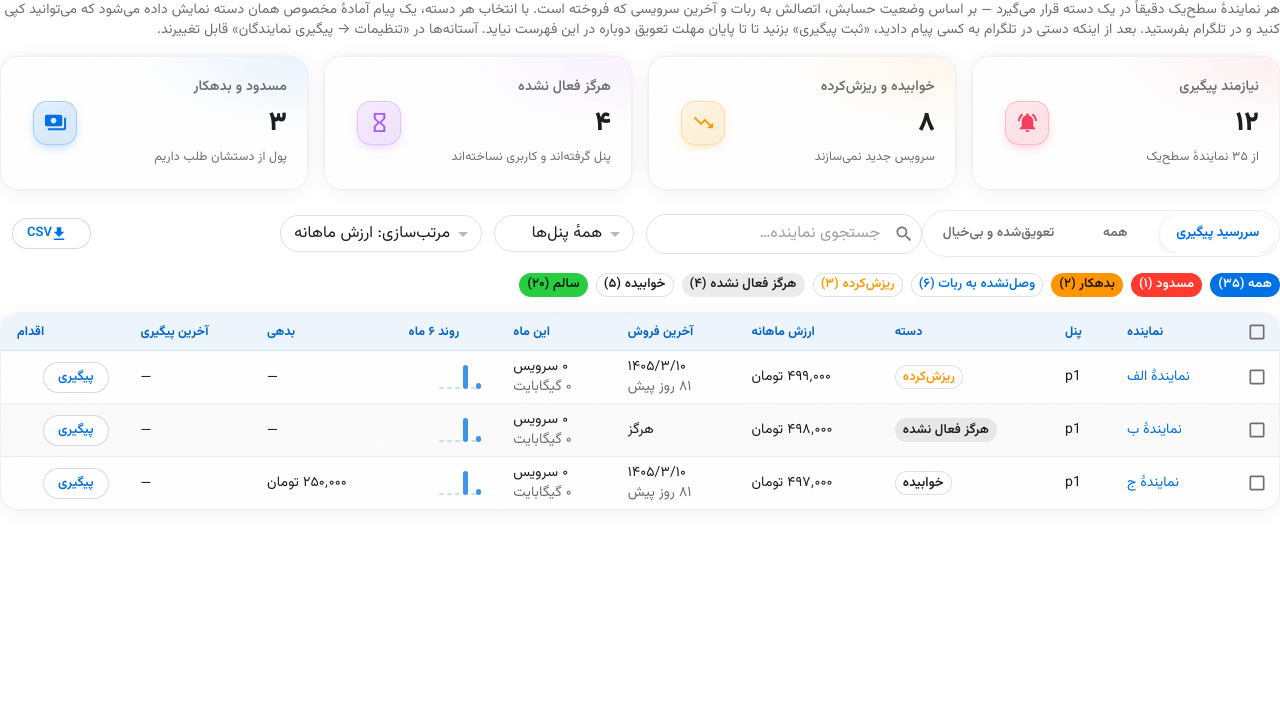
Scenario: reseller follow-up board › records a follow-up with a note and the owner's default snooze
Step 1. Click the button "پیگیری" in the row of "۴۹۹٬۰۰۰ تومان" → (76, 377), box [43,362,109,393]
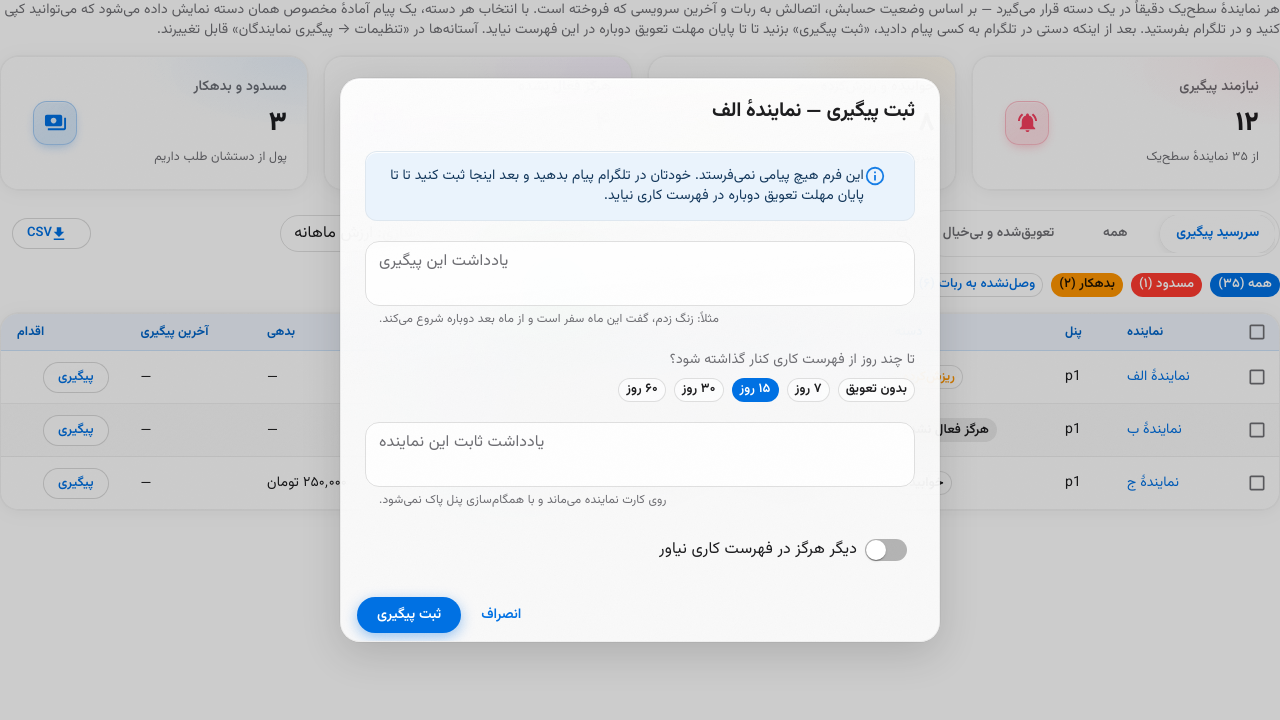
Result: the text "این فرم هیچ پیامی نمی‌فرستد" is shown at [390,165,864,207]
Step 2. Type "زنگ زدم" into the text box labelled "یادداشت این پیگیری" → (640, 273), box [379,249,901,297]
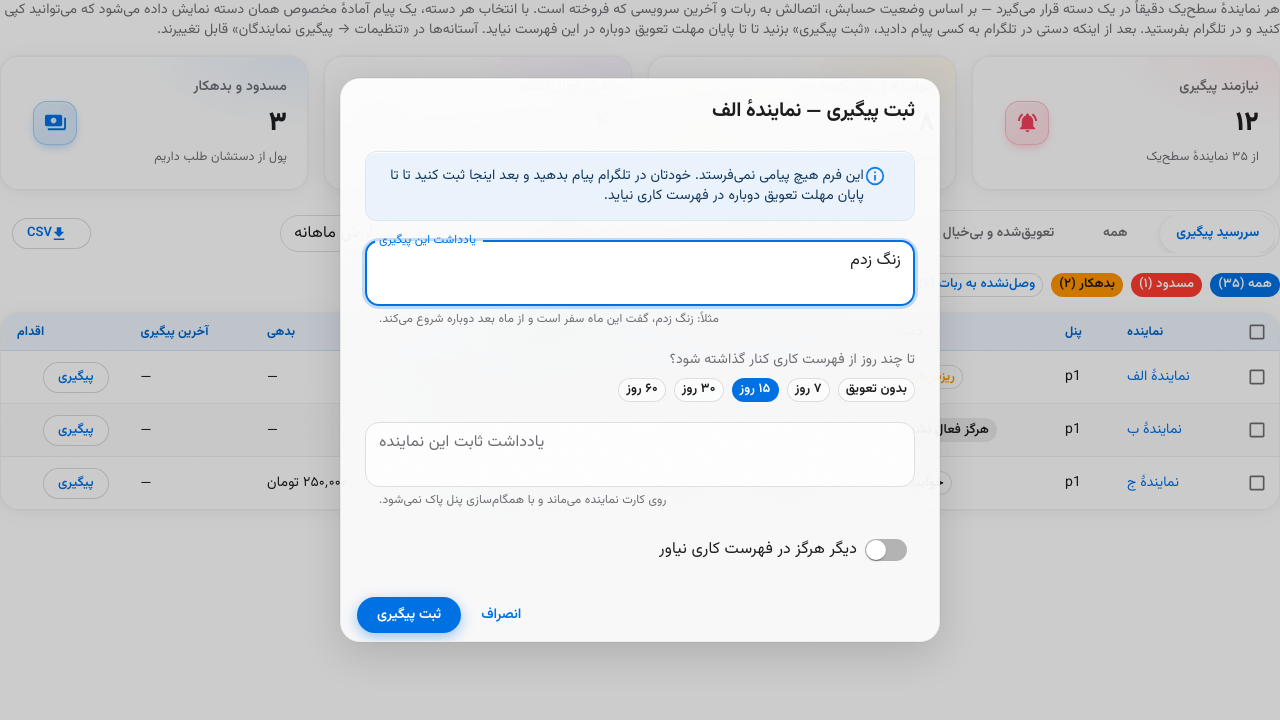
Step 3. Click the button "ثبت پیگیری" → (409, 615), box [357,597,461,633]
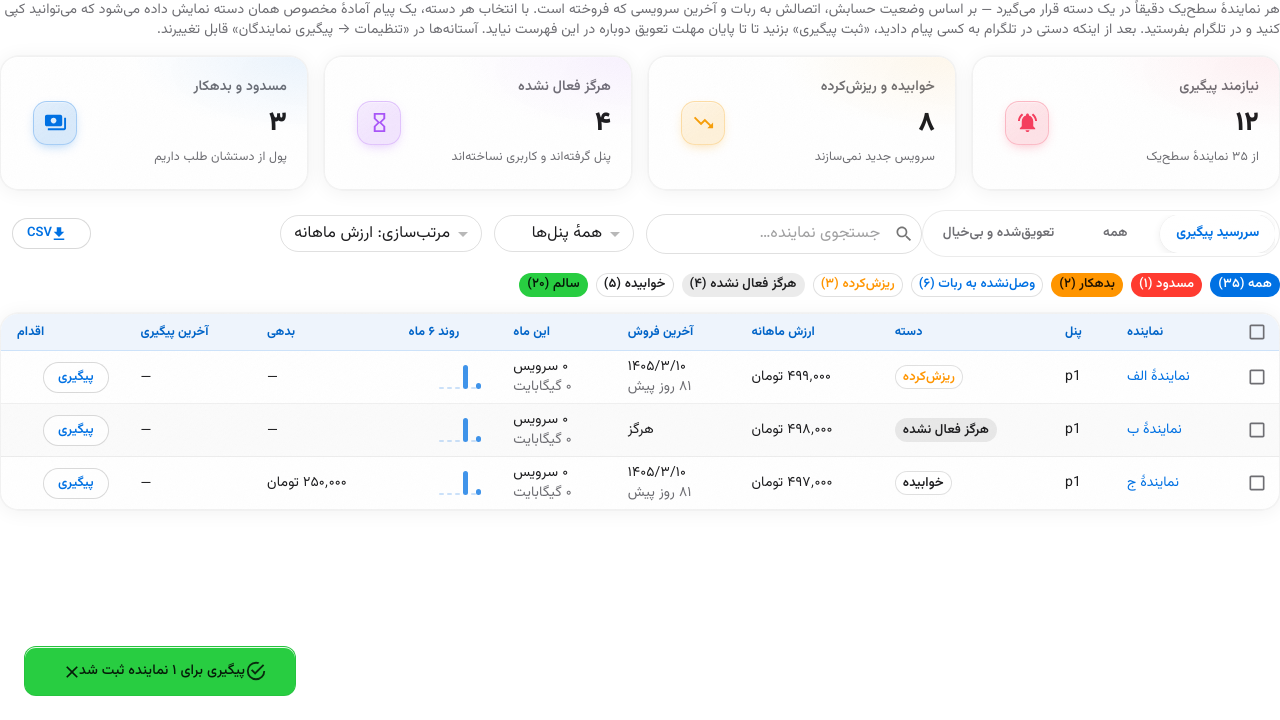
Result: the text "پیگیری برای ۱ نماینده ثبت شد" is shown at [79,653,245,689]
